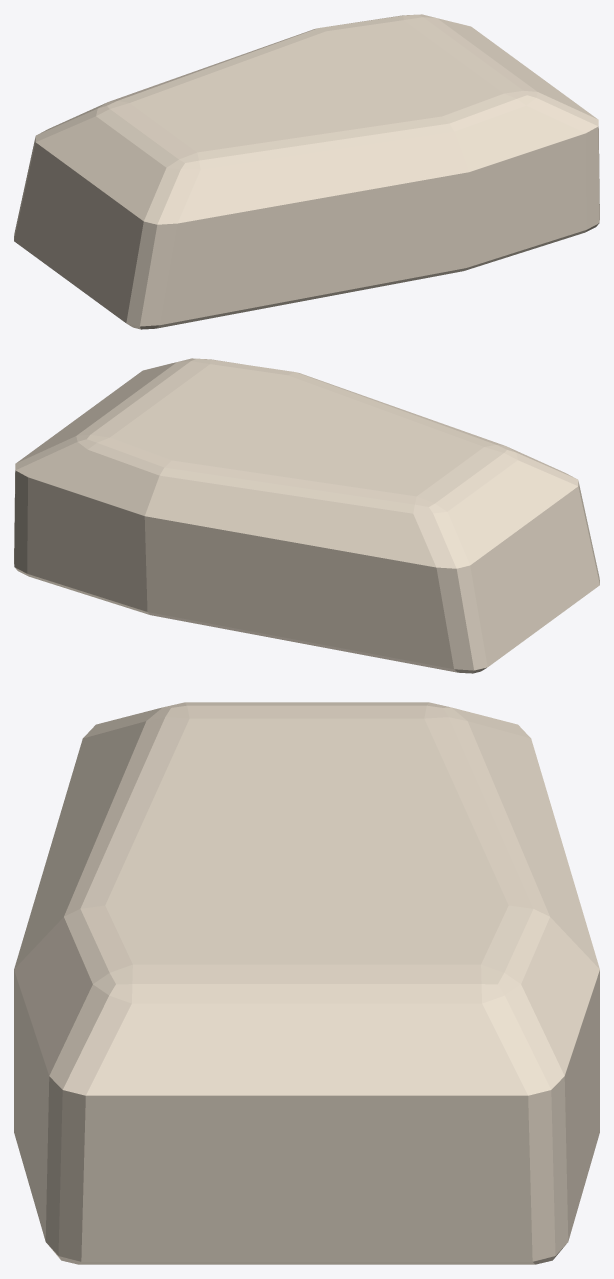
Rendered from Mouse.fbx.
3 views of the same model, one above another, from view 1: azimuth 30°, elevation 25°; view 2: azimuth 150°, elevation 25°; view 3: azimuth 270°, elevation 25° (orthographic). The views are drawn at different scales.
Parts seen in each view (by area): view 1: Mouse; view 2: Mouse; view 3: Mouse.
Boxes of the visible parts, left/top/right/bottom form: Mouse: left=14, top=14, right=599, bottom=329; Mouse: left=14, top=358, right=599, bottom=673; Mouse: left=14, top=702, right=599, bottom=1264.
Bounding box in the file's own units: 20.57 × 5.87 × 12.94.
